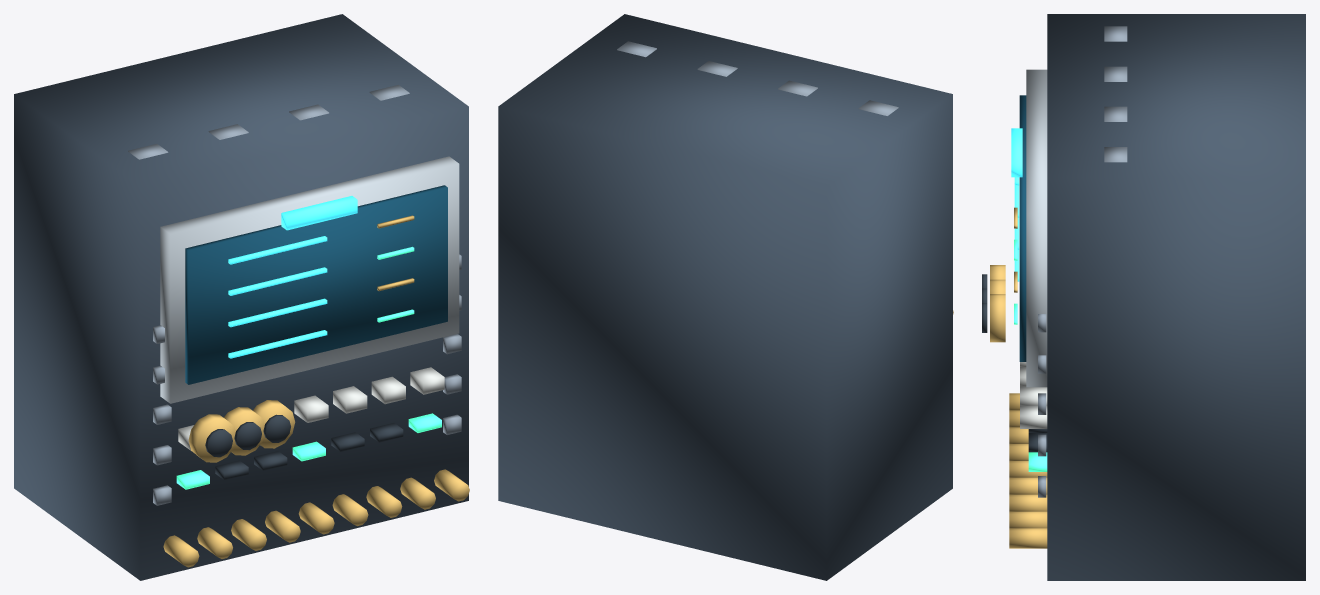
File: 55_L88_WaterResourceBudgetAnalyzer.glb
3 renders of one model, left to right at view 1: azimuth 30°, elevation 25°; view 2: azimuth 150°, elevation 25°; view 3: azimuth 270°, elevation 25°, orthographic. The views are drawn at different scales.
Parts seen in each view (by area): view 1: L87_WaterResourceBudgetAnalyz_Part_0000, L87_WaterResourceBudgetAnalyz_Part_0002, L87_WaterResourceBudgetAnalyz_Part_0001, L87_WaterResourceBudgetAnalyz_Part_0004, L87_WaterResourceBudgetAnalyz_Part_0008, L87_WaterResourceBudgetAnalyz_Part_0006, L87_WaterResourceBudgetAnalyz_Part_0003, L87_WaterResourceBudgetAnalyz_Part_0007, L87_WaterResourceBudgetAnalyz_Part_0005, L87_WaterResourceBudgetAnalyz_Part_0009, L87_WaterResourceBudgetAnalyz_Part_0010, L87_WaterResourceBudgetAnalyz_Part_0014 (+4 smaller); view 2: L87_WaterResourceBudgetAnalyz_Part_0000, L87_WaterResourceBudgetAnalyz_Part_0008; view 3: L87_WaterResourceBudgetAnalyz_Part_0000, L87_WaterResourceBudgetAnalyz_Part_0001, L87_WaterResourceBudgetAnalyz_Part_0004, L87_WaterResourceBudgetAnalyz_Part_0008, L87_WaterResourceBudgetAnalyz_Part_0002, L87_WaterResourceBudgetAnalyz_Part_0006, L87_WaterResourceBudgetAnalyz_Part_0014, L87_WaterResourceBudgetAnalyz_Part_0009, L87_WaterResourceBudgetAnalyz_Part_0005, L87_WaterResourceBudgetAnalyz_Part_0003.
Boxes of the visible parts, x1,y1,x2,y2 form: L87_WaterResourceBudgetAnalyz_Part_0000: (14, 14, 468, 580); L87_WaterResourceBudgetAnalyz_Part_0002: (185, 185, 447, 384); L87_WaterResourceBudgetAnalyz_Part_0001: (160, 156, 459, 403); L87_WaterResourceBudgetAnalyz_Part_0004: (163, 215, 469, 567); L87_WaterResourceBudgetAnalyz_Part_0008: (128, 85, 461, 505); L87_WaterResourceBudgetAnalyz_Part_0006: (178, 367, 444, 450); L87_WaterResourceBudgetAnalyz_Part_0003: (228, 236, 327, 358); L87_WaterResourceBudgetAnalyz_Part_0007: (215, 423, 403, 480); L87_WaterResourceBudgetAnalyz_Part_0005: (176, 246, 441, 489); L87_WaterResourceBudgetAnalyz_Part_0009: (281, 196, 357, 230); L87_WaterResourceBudgetAnalyz_Part_0010: (188, 414, 235, 462); L87_WaterResourceBudgetAnalyz_Part_0014: (253, 400, 295, 448); L87_WaterResourceBudgetAnalyz_Part_0000: (498, 14, 952, 580); L87_WaterResourceBudgetAnalyz_Part_0008: (617, 41, 898, 115); L87_WaterResourceBudgetAnalyz_Part_0000: (1047, 14, 1305, 580); L87_WaterResourceBudgetAnalyz_Part_0001: (1026, 69, 1047, 387); L87_WaterResourceBudgetAnalyz_Part_0004: (1009, 207, 1047, 548); L87_WaterResourceBudgetAnalyz_Part_0008: (1038, 26, 1127, 497); L87_WaterResourceBudgetAnalyz_Part_0002: (1019, 95, 1026, 361); L87_WaterResourceBudgetAnalyz_Part_0006: (1020, 362, 1047, 428); L87_WaterResourceBudgetAnalyz_Part_0014: (990, 294, 1005, 342); L87_WaterResourceBudgetAnalyz_Part_0009: (1011, 128, 1022, 177); L87_WaterResourceBudgetAnalyz_Part_0005: (1014, 239, 1047, 471); L87_WaterResourceBudgetAnalyz_Part_0003: (1014, 177, 1019, 281).
Bounding box in the file's own units: 1.04 × 1.2 × 0.8688.
